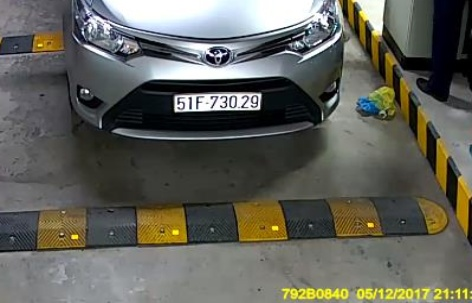plate: (173, 89, 264, 116)
